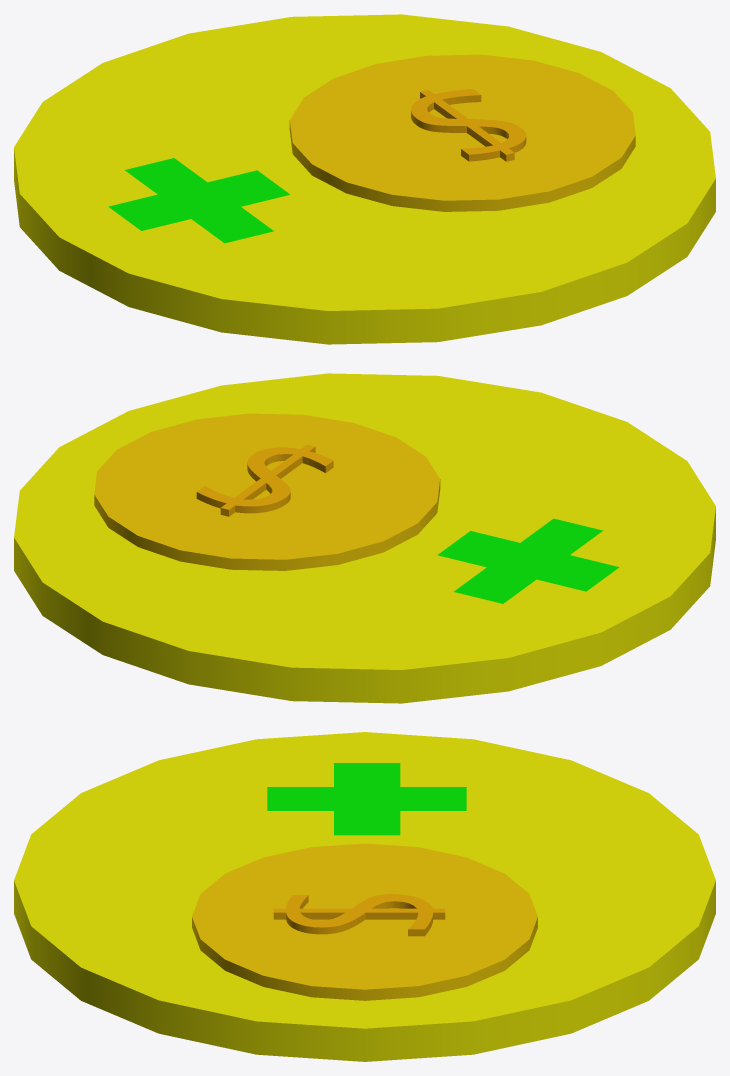
The model's file is coinUpObj.fbx.
The picture shows the model from 3 angles, top to bottom: view 1: azimuth 30°, elevation 25°; view 2: azimuth 150°, elevation 25°; view 3: azimuth 270°, elevation 25°; orthographic projection.
Visible parts, largest first — view 1: coinUpObj; view 2: coinUpObj; view 3: coinUpObj.
Boxes of the visible parts, box(x1,y1,x2,y2) form: coinUpObj: box(14, 14, 715, 344); coinUpObj: box(14, 373, 715, 703); coinUpObj: box(14, 732, 715, 1061).
Size of the model in its own units: 0.8442 by 0.0681 by 0.8442.
